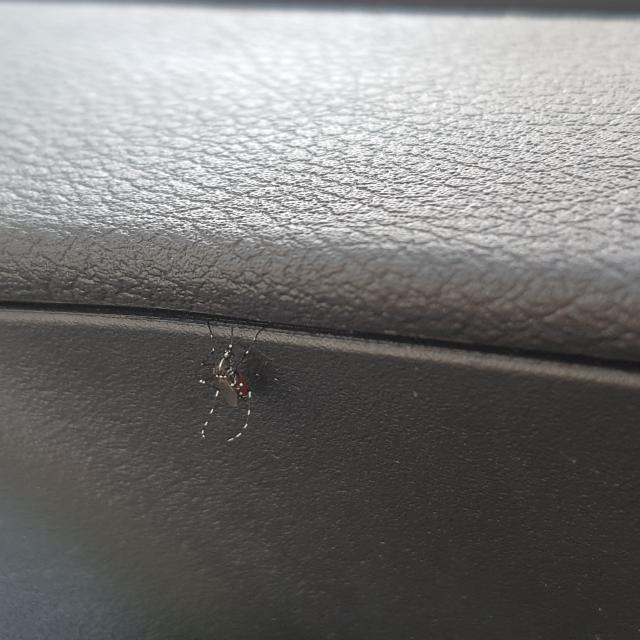albopictus: (180, 319, 278, 443)
